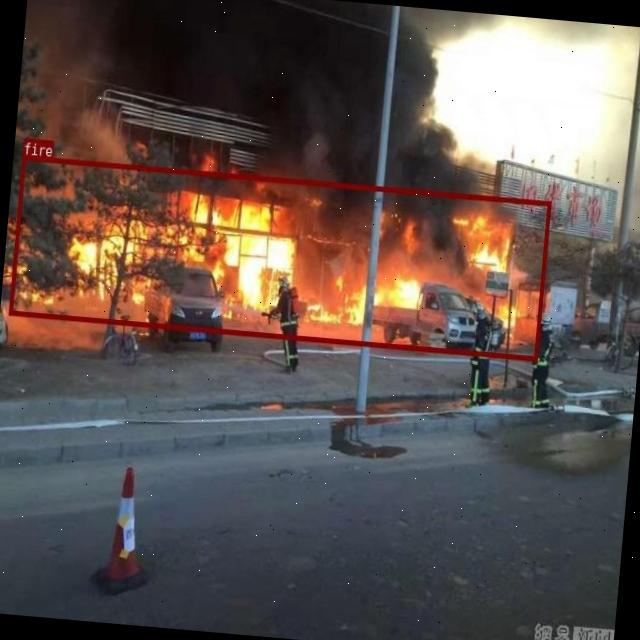fire: (8, 154, 550, 360)
